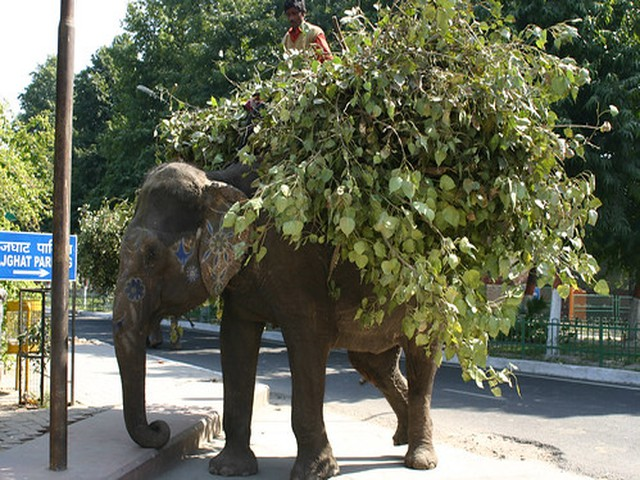Elephant: (109, 161, 457, 479)
Person: (272, 2, 339, 59)
